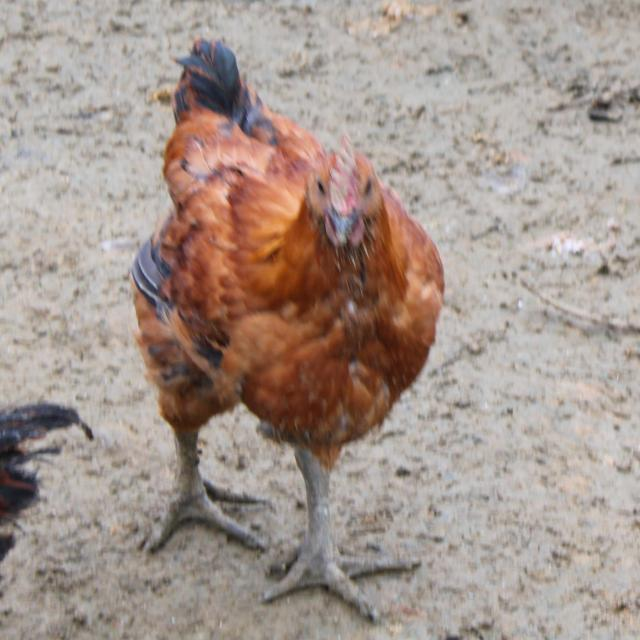hen: (133, 40, 444, 620)
